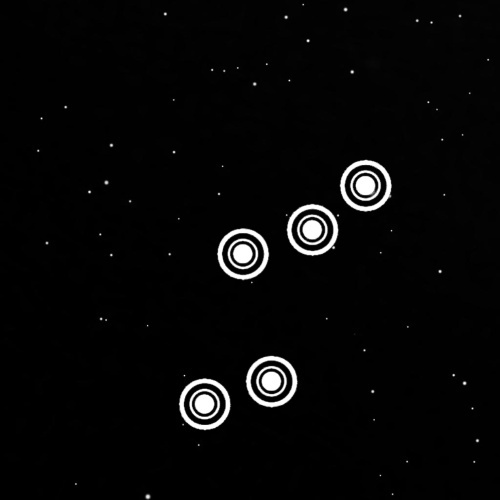lyra: (170, 148, 403, 446)
